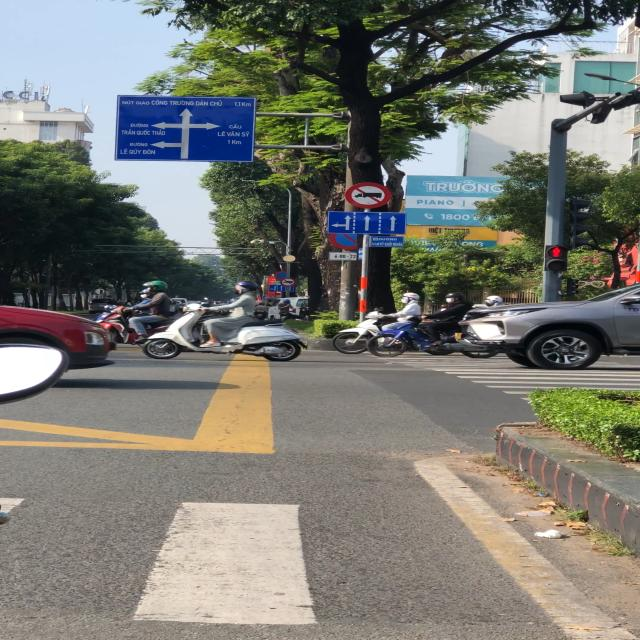Bien bao cam xe so-mi ro-mooc: (343, 181, 394, 210), (278, 277, 296, 288)
